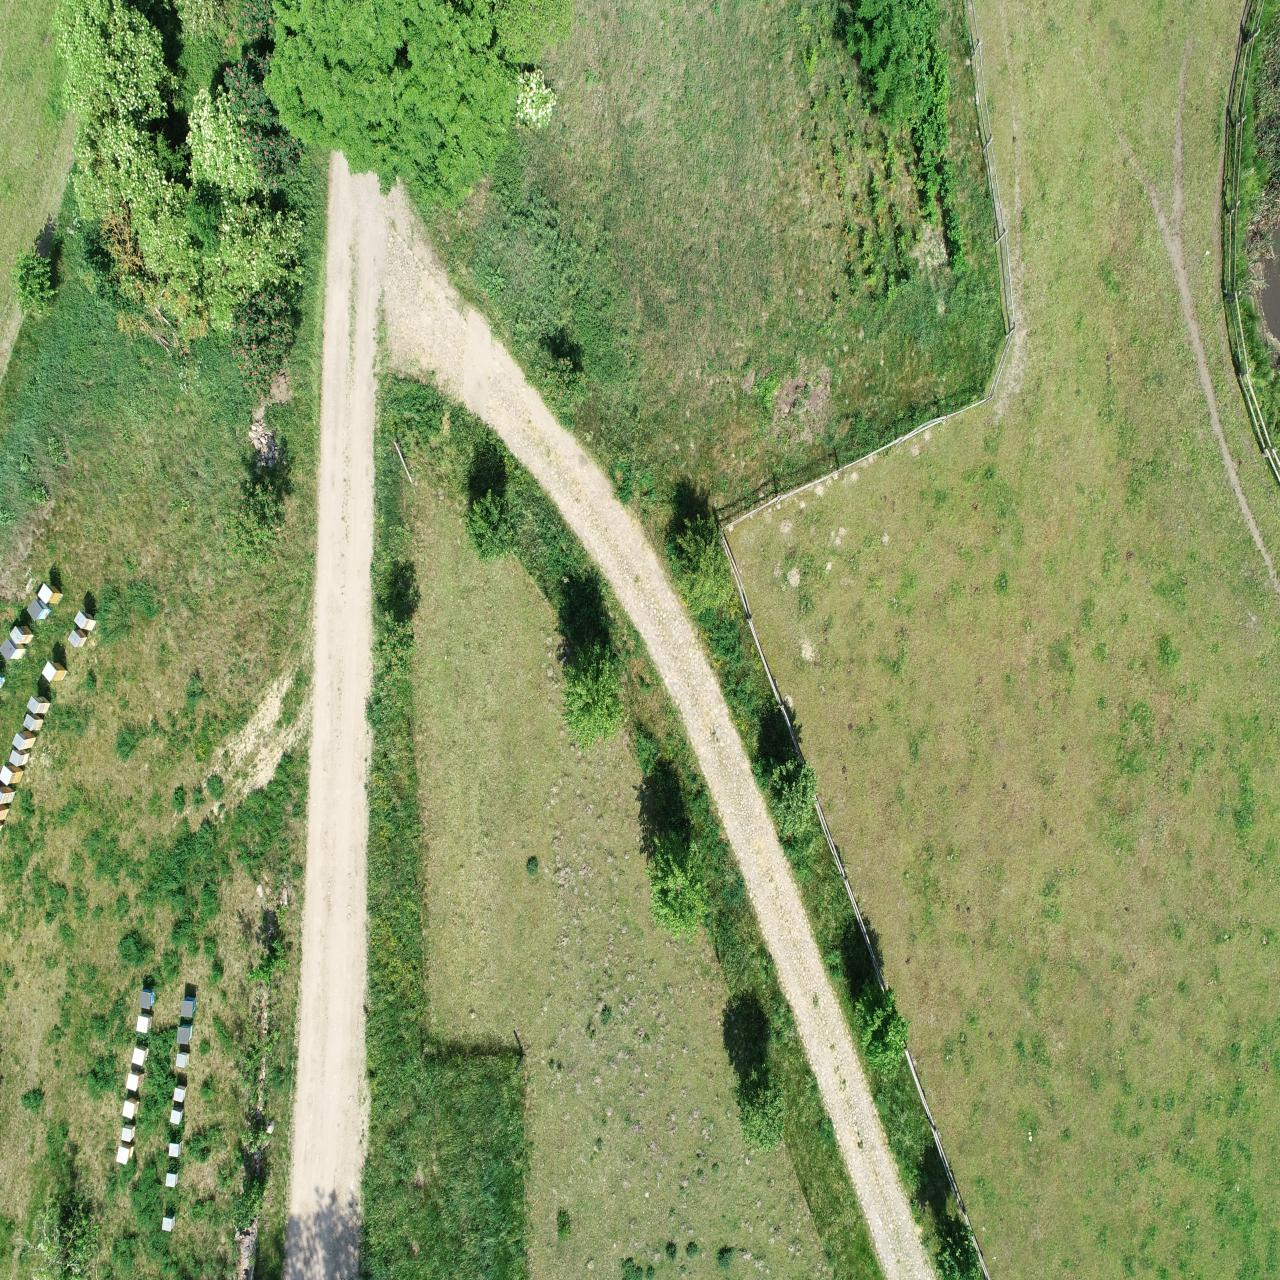cow: (768, 760, 796, 812), (706, 497, 733, 551), (1065, 0, 1107, 34), (920, 332, 946, 386), (946, 188, 971, 243), (812, 465, 837, 519), (660, 874, 681, 937), (871, 350, 893, 408), (890, 550, 908, 612), (804, 550, 824, 605), (805, 816, 826, 866), (731, 1037, 751, 1088), (888, 736, 905, 790), (865, 803, 880, 856)
